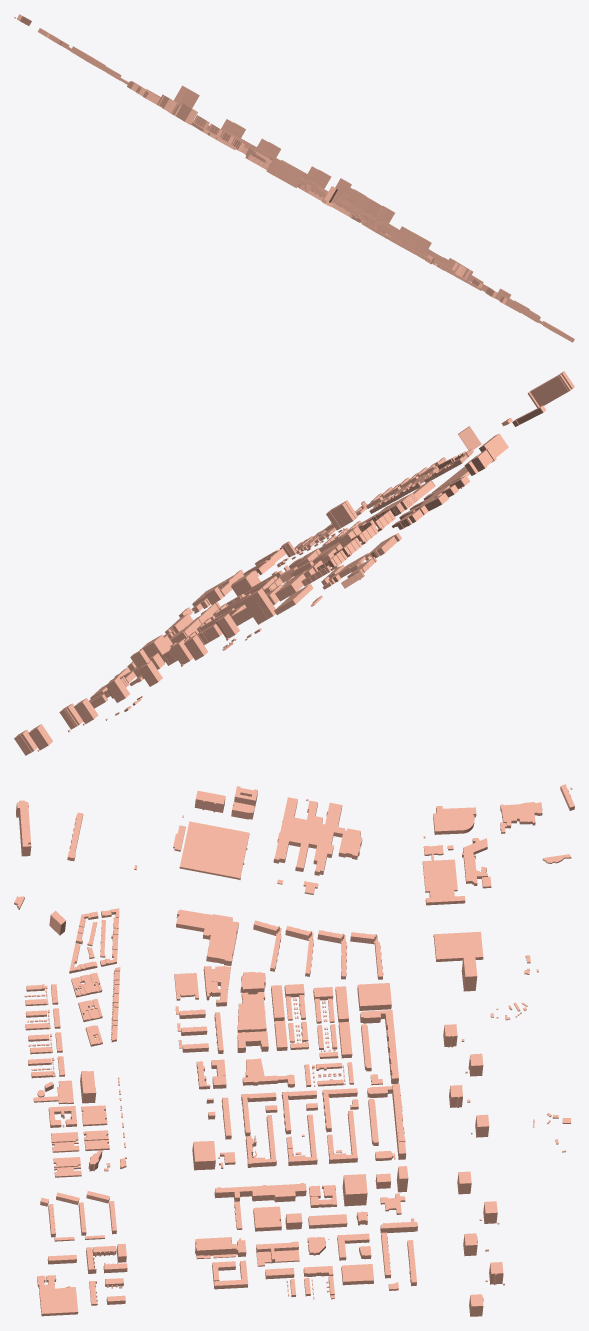
3 views of the same model, one above another, from view 1: azimuth 30°, elevation 25°; view 2: azimuth 150°, elevation 25°; view 3: azimuth 270°, elevation 25° (orthographic). The views are drawn at different scales.
Size of the model in its own units: 1066 by 800 by 1190.
